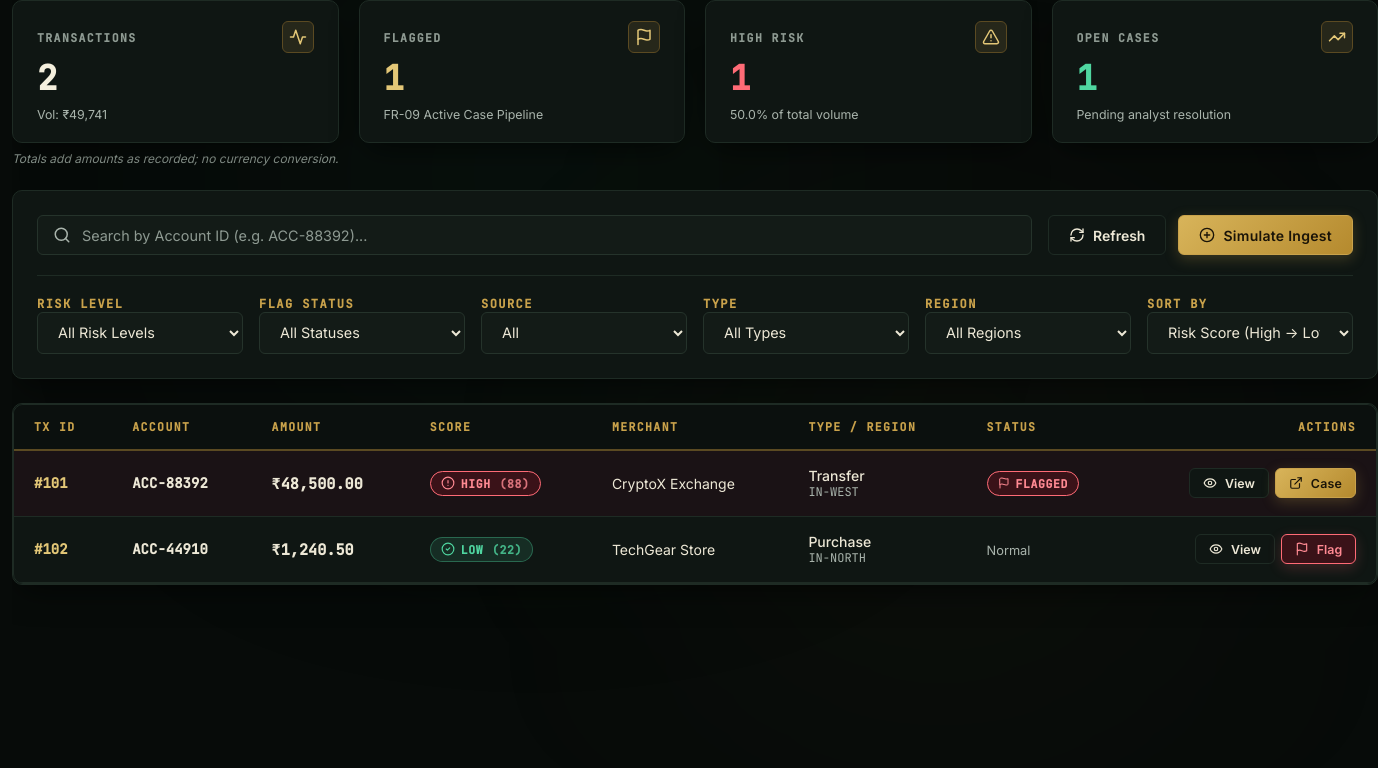
Test: DashboardPage › filters by status and shows only matching rows
The image size is (1378, 768).
Expected: the text "ACC-88392" is shown, [132, 474, 208, 492]
Expected: the text "ACC-44910" is shown, [132, 540, 208, 558]
Select "Flagged Only" in the dropdown below "Flag Status" at (362, 333), box [259, 312, 465, 354]
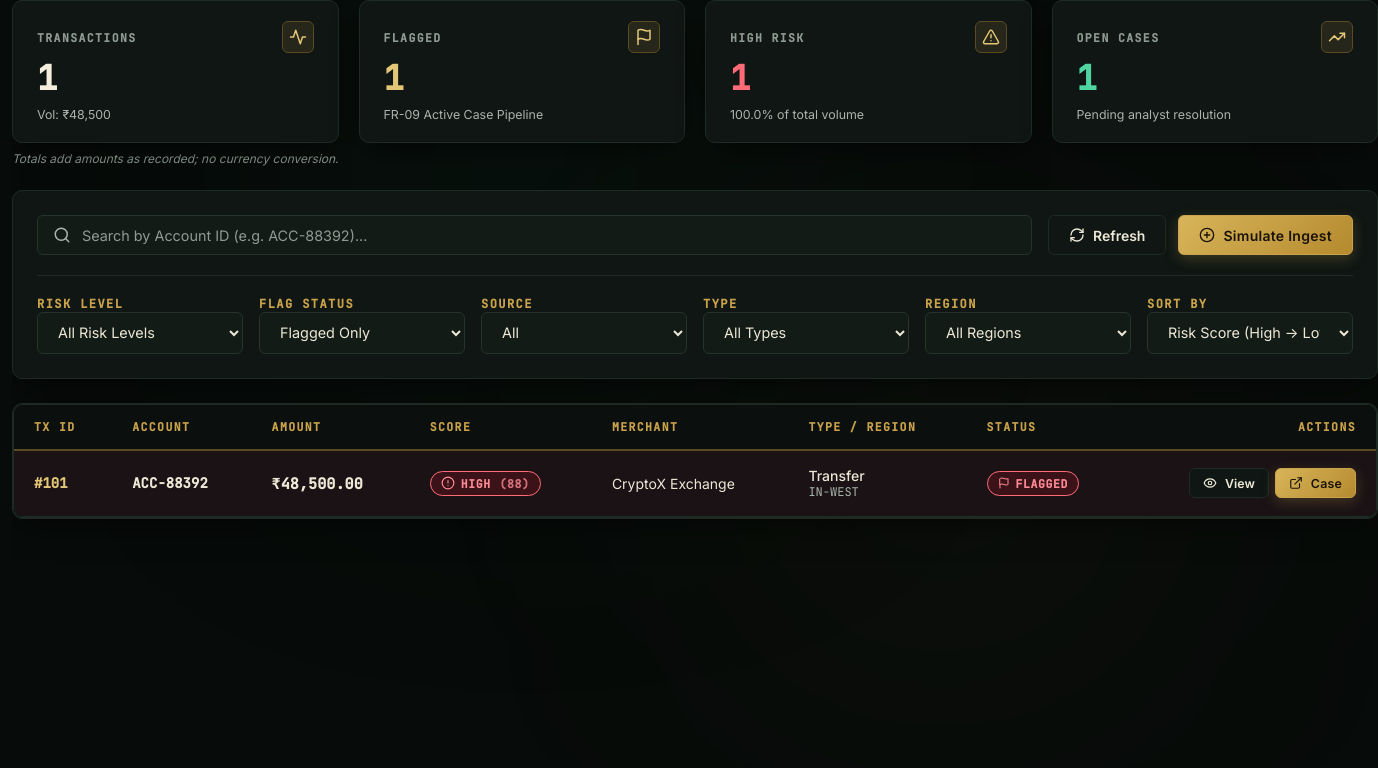
Expected: the text "ACC-88392" is shown, [132, 474, 208, 492]
Expected: the text "ACC-44910" is gone
Select "Unflagged Only" in the dropdown below "Flag Status" at (362, 333), box [259, 312, 465, 354]
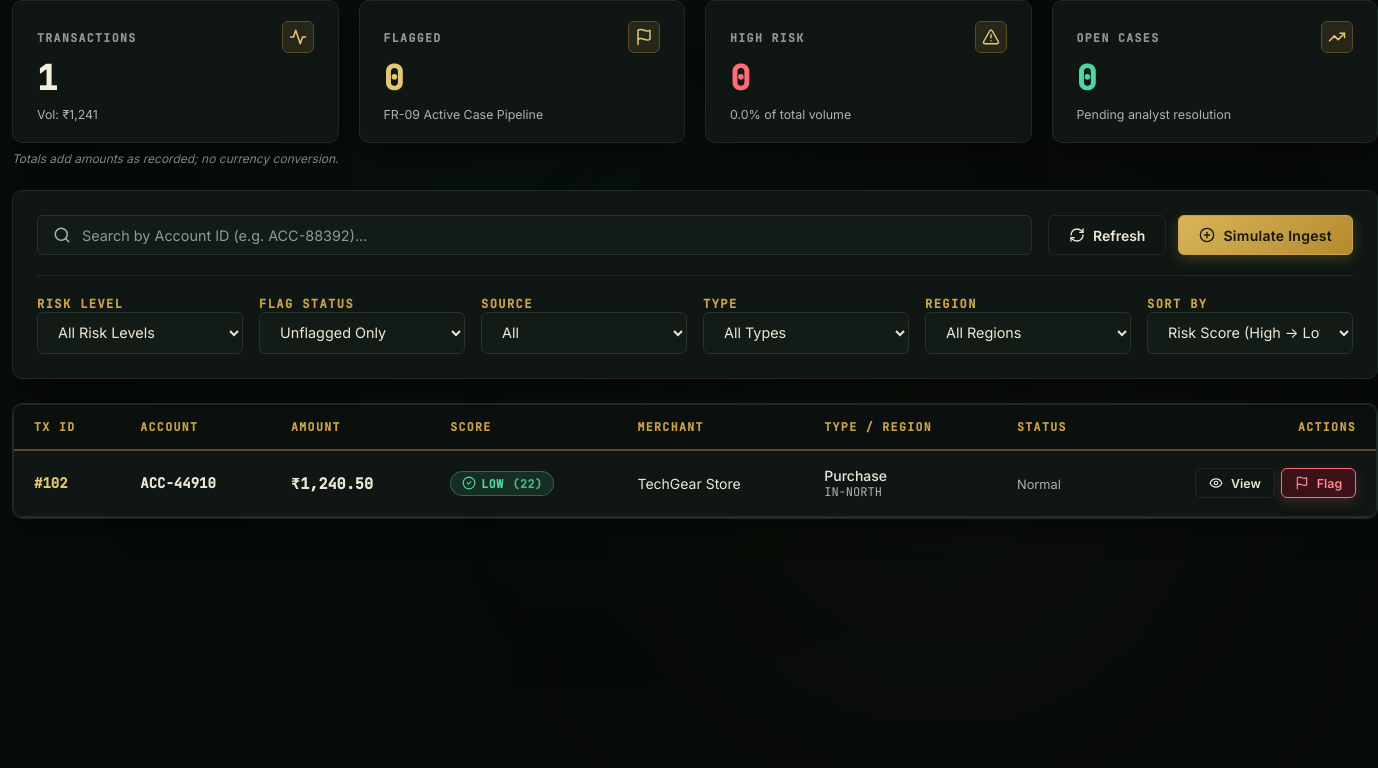
Expected: the text "ACC-44910" is shown, [140, 474, 216, 492]
